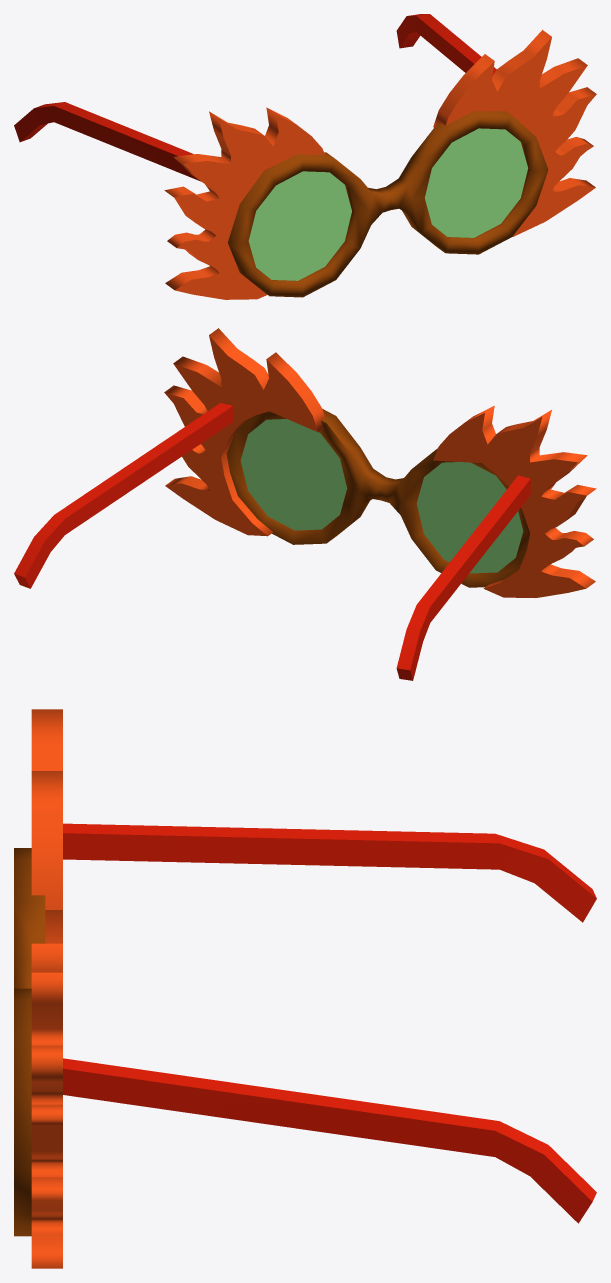
File: Fire_glasses.fbx
3 views of the same model, one above another, from view 1: azimuth 30°, elevation 25°; view 2: azimuth 150°, elevation 25°; view 3: azimuth 270°, elevation 25° (orthographic). The views are drawn at different scales.
Parts seen in each view (by area): view 1: Fire_glasses.c, Glasses_stick_03, Glasses_stick_01; view 2: Fire_glasses.c, Glasses_stick_01, Glasses_stick_03; view 3: Fire_glasses.c, Glasses_stick_01, Glasses_stick_03.
Boxes of the visible parts, x1=… form: Fire_glasses.c: x1=164, y1=30, x2=596, y2=299; Glasses_stick_03: x1=14, y1=102, x2=200, y2=181; Glasses_stick_01: x1=396, y1=14, x2=496, y2=75; Fire_glasses.c: x1=164, y1=328, x2=596, y2=597; Glasses_stick_01: x1=14, y1=403, x2=233, y2=588; Glasses_stick_03: x1=396, y1=475, x2=530, y2=680; Fire_glasses.c: x1=14, y1=709, x2=62, y2=1268; Glasses_stick_01: x1=63, y1=1058, x2=596, y2=1223; Glasses_stick_03: x1=63, y1=823, x2=596, y2=922.
Size of the model in its own units: 0.7552 by 0.3316 by 0.5567.
